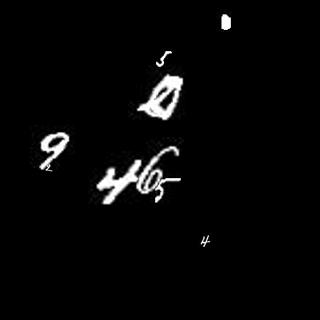dot: (206, 12, 243, 40)
five: (154, 177, 183, 203), (149, 46, 173, 70)
four: (95, 159, 138, 208), (198, 233, 214, 249)
nine: (31, 129, 78, 169)
six: (140, 142, 181, 193)
two: (45, 164, 55, 174)
